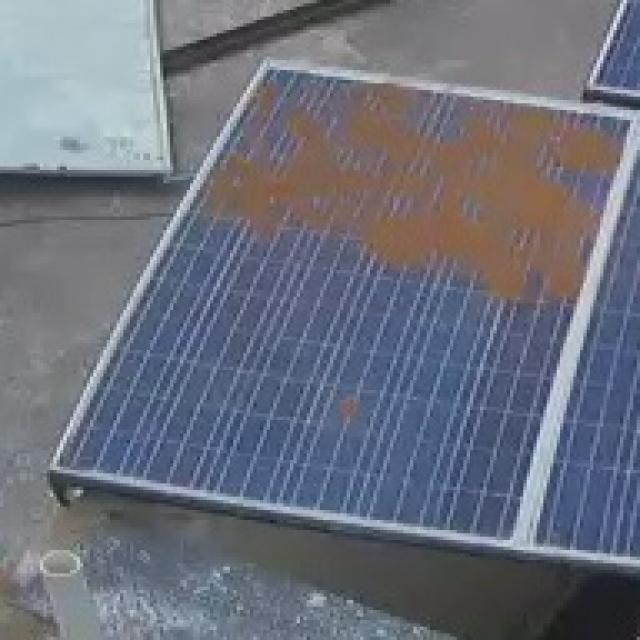faulty: (189, 56, 640, 306), (326, 382, 365, 434)
